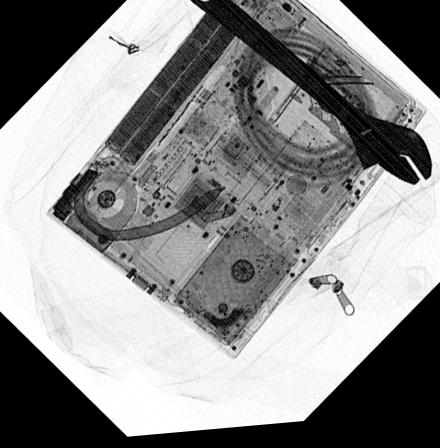Wrench: (186, 0, 432, 195)
